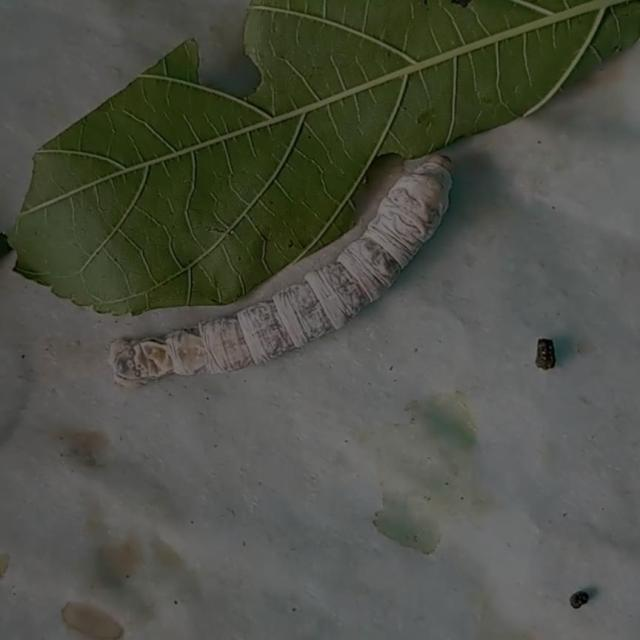Grasserie: (101, 146, 462, 398)
